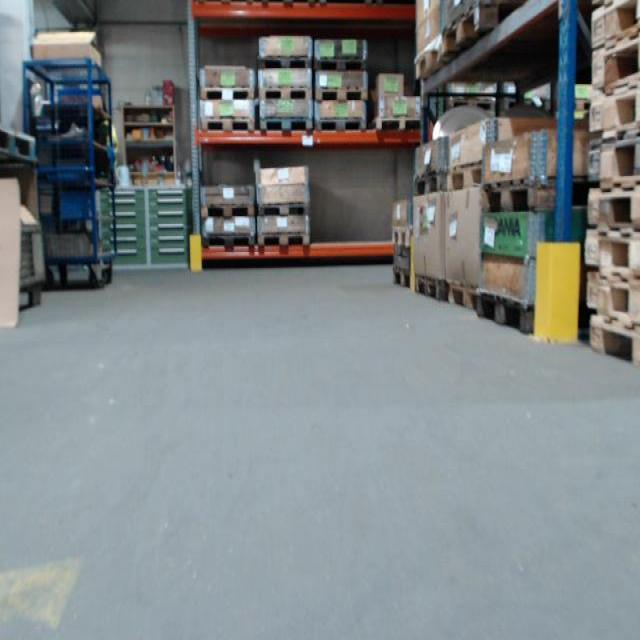pallet: (444, 1, 512, 64), (482, 178, 559, 213), (587, 81, 638, 133), (476, 292, 536, 336), (584, 134, 635, 182), (585, 272, 639, 313), (590, 315, 637, 361), (587, 184, 636, 228), (588, 36, 638, 76), (586, 229, 635, 268), (446, 160, 487, 194), (590, 4, 638, 33), (415, 36, 442, 87), (312, 52, 368, 73), (198, 114, 256, 134), (0, 127, 37, 158), (256, 53, 313, 72), (259, 198, 312, 218), (448, 285, 486, 312), (196, 86, 256, 103), (313, 115, 367, 133), (256, 85, 313, 102), (200, 201, 255, 218), (203, 232, 256, 249), (313, 87, 369, 103), (258, 230, 310, 247), (258, 116, 313, 132), (413, 171, 445, 197), (417, 279, 450, 304), (371, 116, 422, 132), (388, 225, 414, 250), (391, 267, 413, 289)
stillage: (18, 225, 44, 311)
